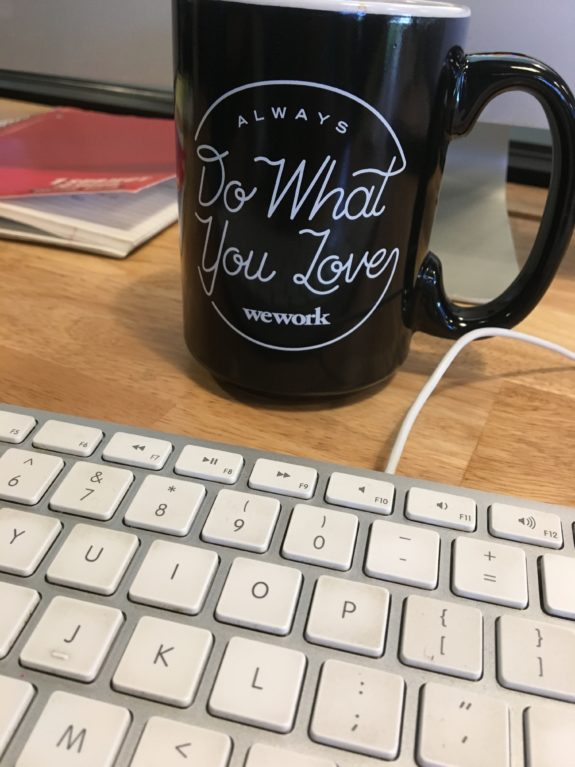wework: (238, 302, 334, 329)
